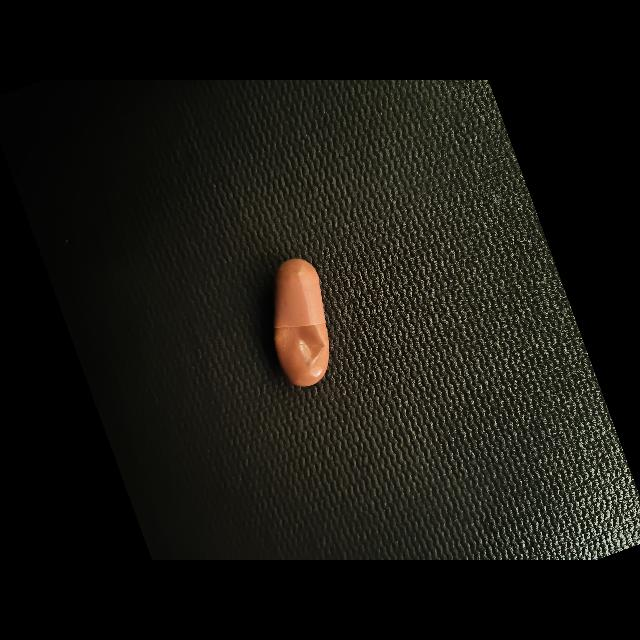Defective Capsule: (274, 325, 325, 370)
